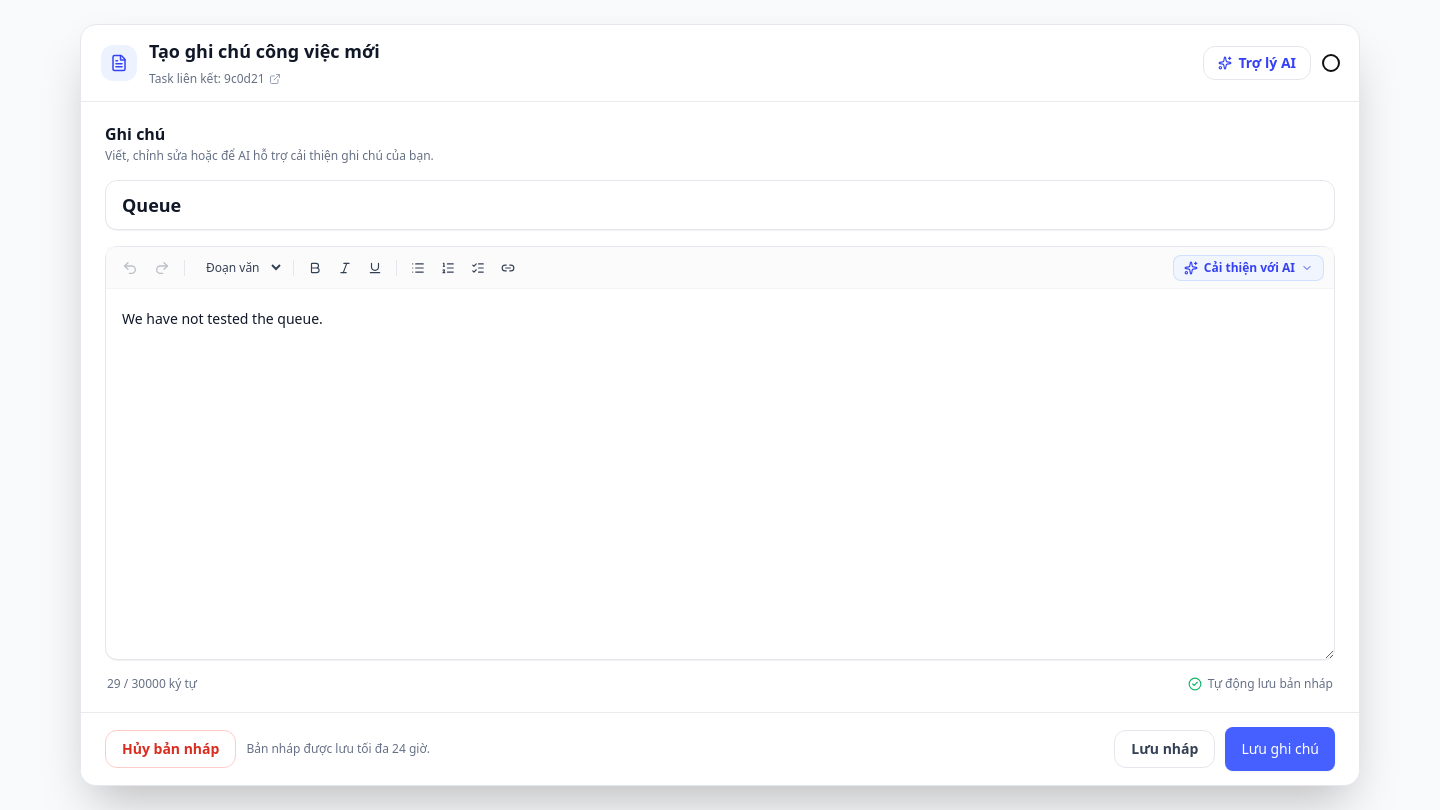
Scenario: retries autosave rather than an older Agent failure after editing
The width and height of the screenshot is (1440, 810).
Expected: the text box showing "We have not tested the queue." is shown, x1=106 y1=289 x2=1334 y2=659
Click the button "Cải thiện với AI".
click(1248, 268)  # box x1=1173 y1=255 x2=1324 y2=281
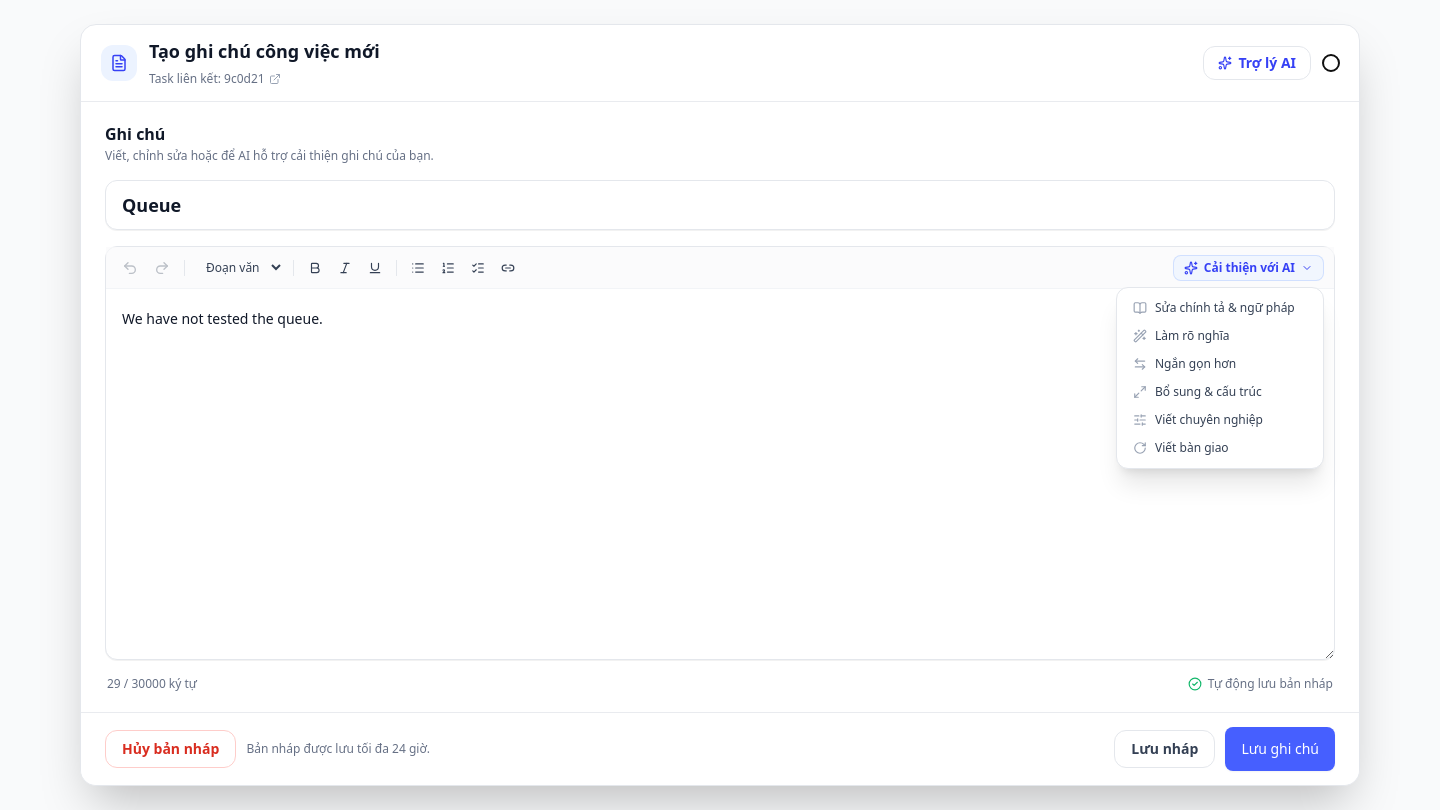
Click the button "Sửa chính tả & ngữ pháp".
click(1220, 308)  # box x1=1123 y1=294 x2=1317 y2=322
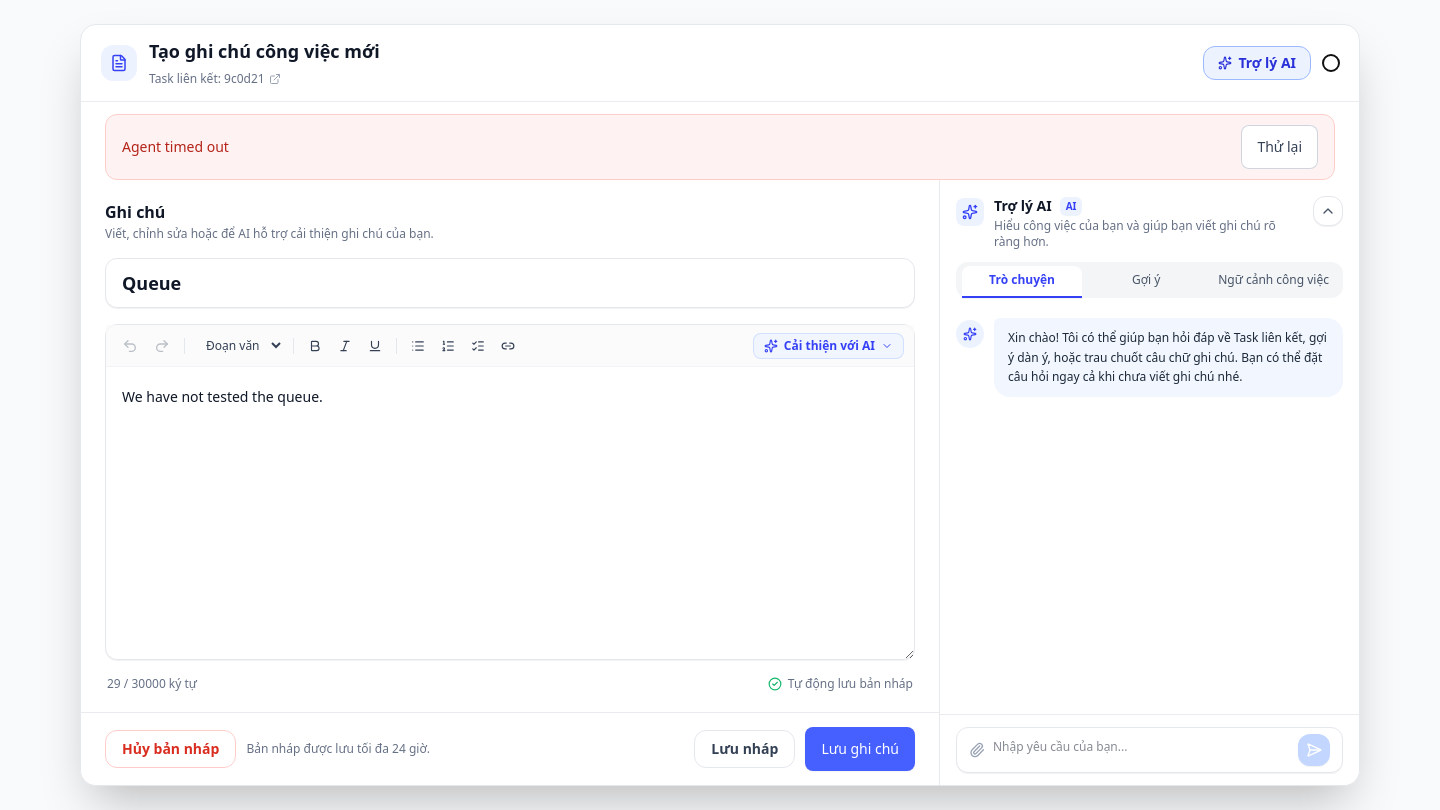
Result: the text "Agent timed out" is shown at x1=122 y1=137 x2=229 y2=157
Replace the text in the text box named "Nội dung" with "Updated text, still not tested." at (510, 513), box x1=106 y1=367 x2=914 y2=659
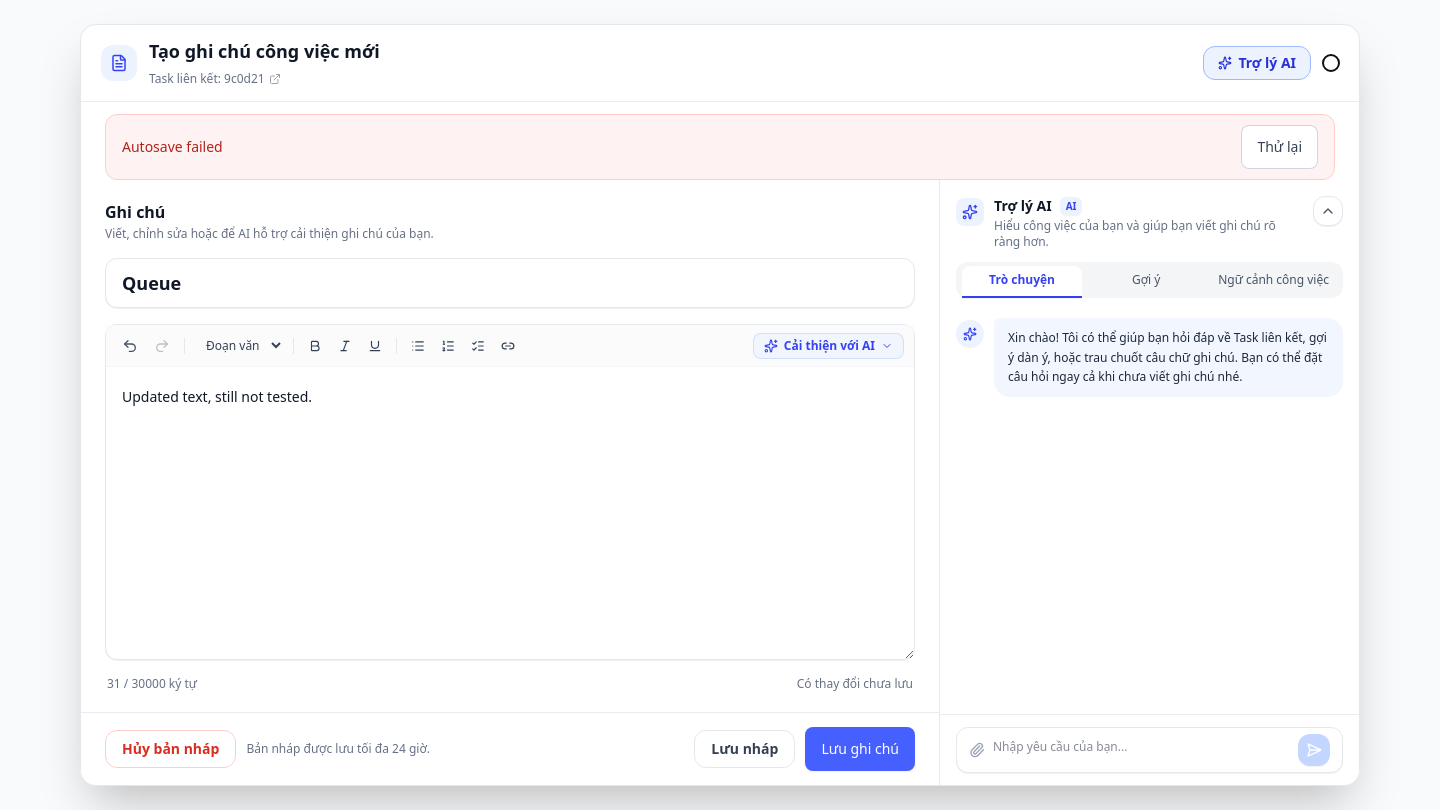
Result: the text "Autosave failed" is shown at x1=122 y1=137 x2=223 y2=157
Click the button "Thử lại".
click(1280, 147)  # box x1=1241 y1=125 x2=1318 y2=169
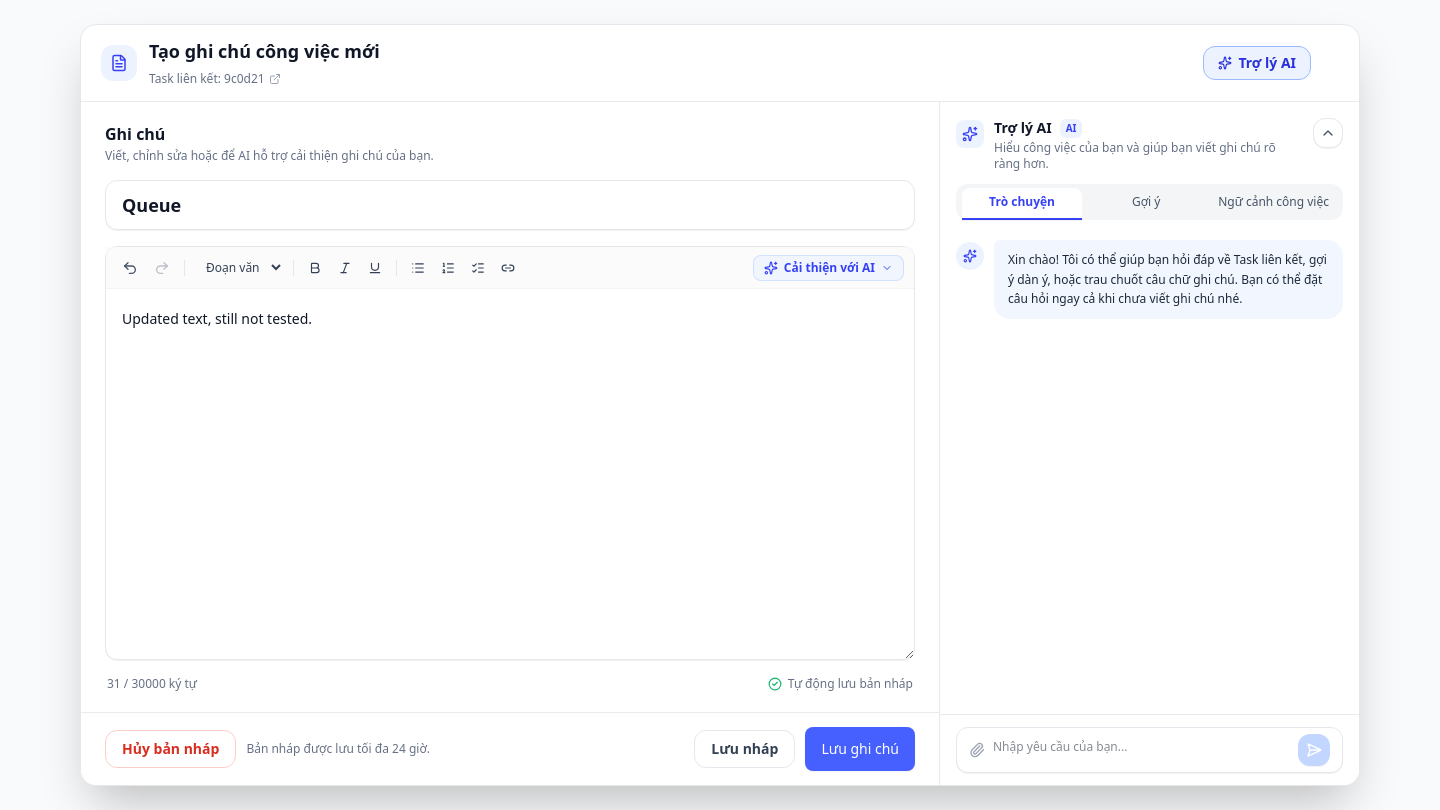
Result: the text "Autosave failed" is gone
